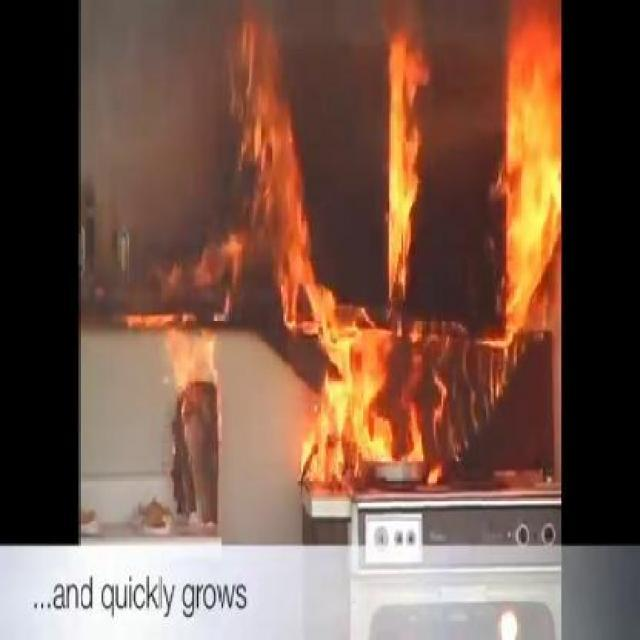fire: (302, 328, 504, 484), (222, 62, 316, 312), (482, 40, 560, 338), (376, 33, 433, 324), (125, 281, 224, 384)
